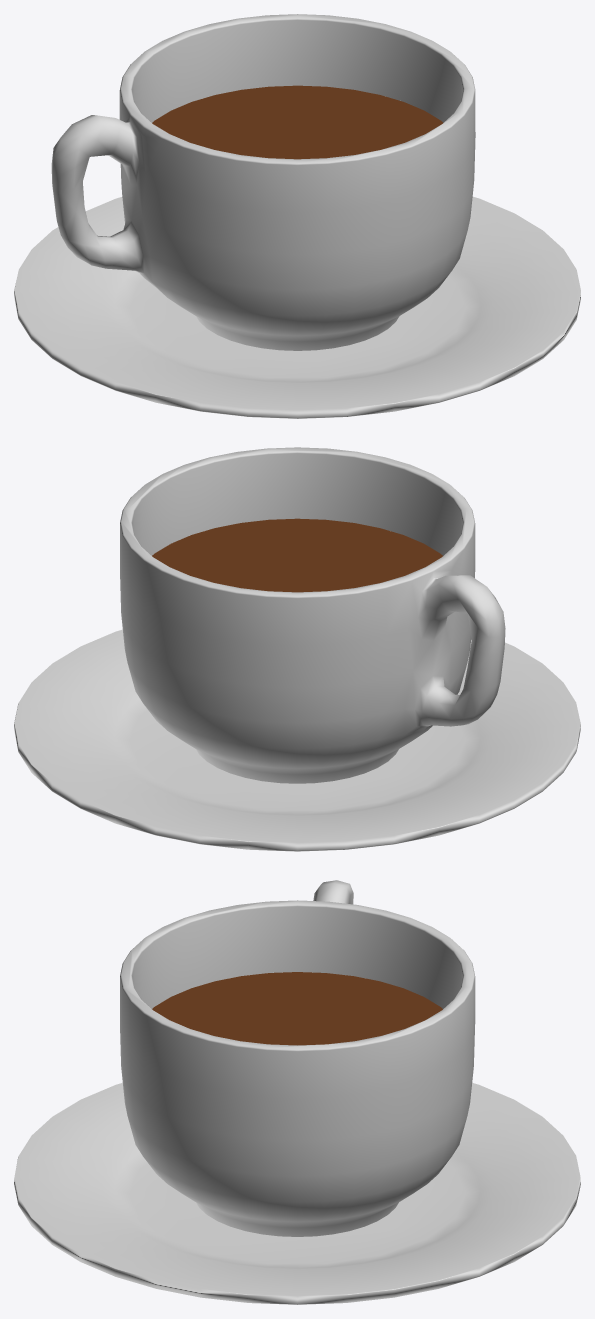
The model's file is cupandsaucer.glb.
3 views of the same model, one above another, from view 1: azimuth 30°, elevation 25°; view 2: azimuth 150°, elevation 25°; view 3: azimuth 270°, elevation 25° (orthographic).
Parts seen in each view (by area): view 1: porcelain, tea; view 2: porcelain, tea; view 3: porcelain, tea.
Part boxes in pixels (bbox=[...]): porcelain: bbox=[14, 14, 580, 418]; tea: bbox=[152, 85, 442, 159]; porcelain: bbox=[14, 447, 580, 851]; tea: bbox=[152, 518, 442, 592]; porcelain: bbox=[14, 880, 580, 1304]; tea: bbox=[152, 972, 442, 1045].
Size of the model in its own units: 0.0623 by 0.0276 by 0.0623.
